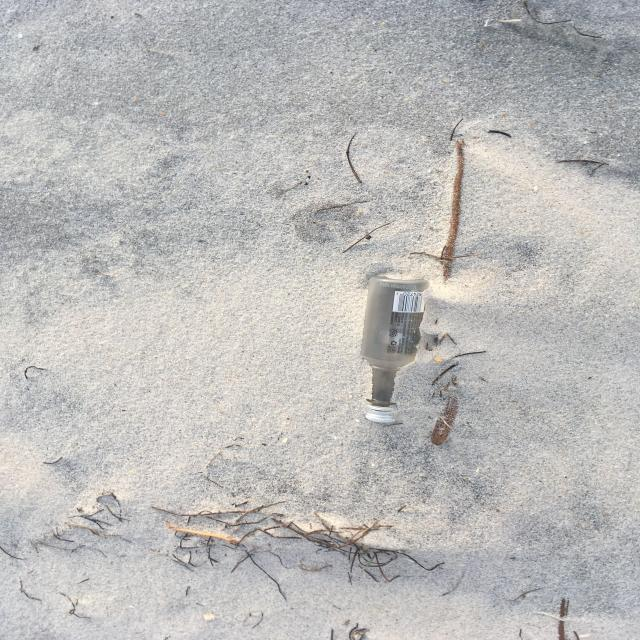litter: (359, 274, 430, 424)
